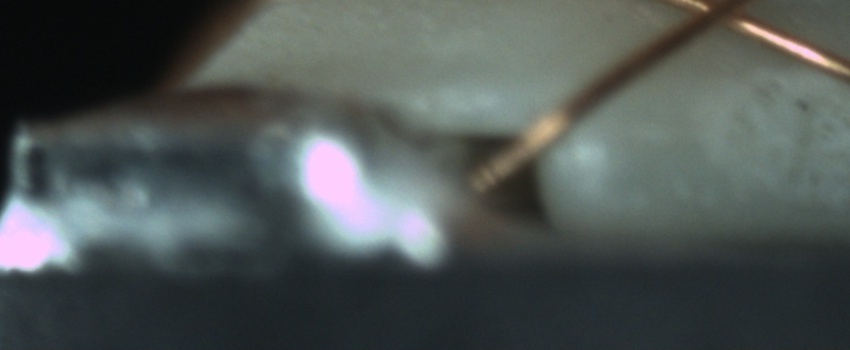CL: (671, 0, 779, 40)
